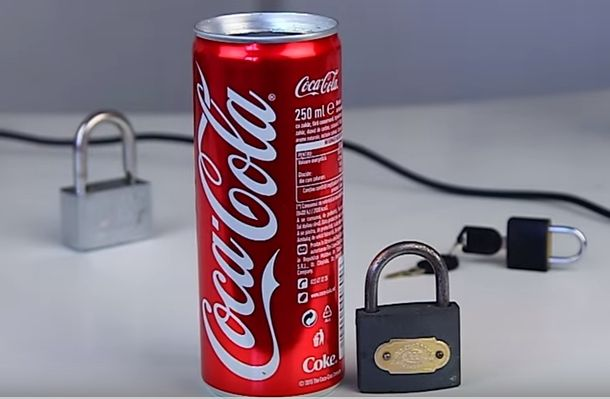coke: (194, 21, 345, 388)
